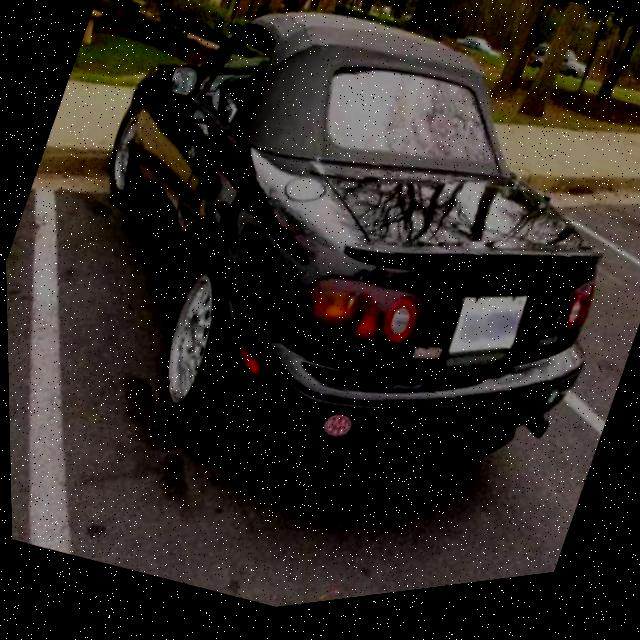license_plate: (440, 286, 530, 388)
